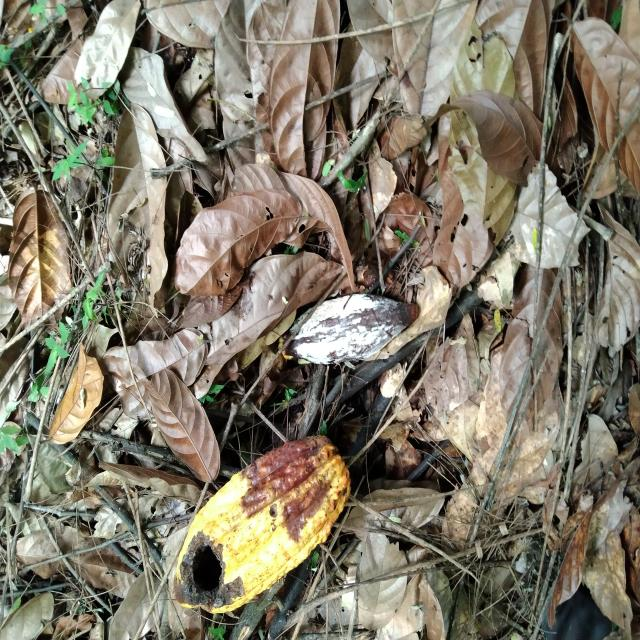Fitoftora: (206, 434, 350, 560)
Monilia: (277, 294, 414, 364)
